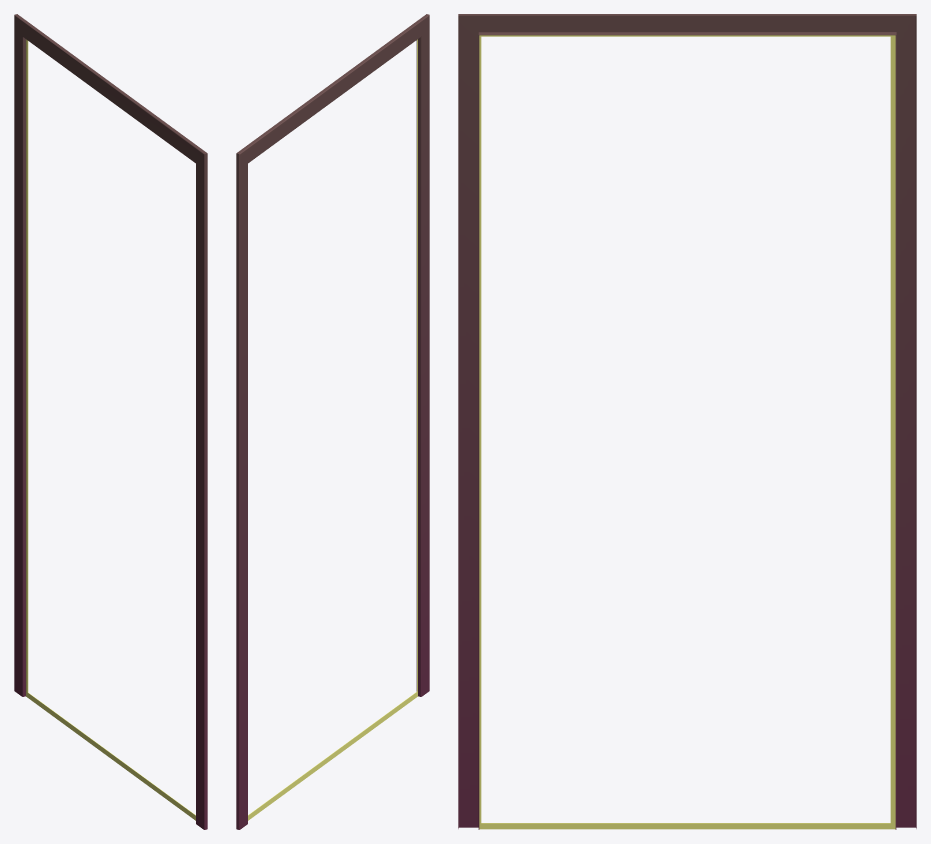
File: Kit_DoorFrame_Steel_DA_Wall.fbx
3 renders of one model, left to right at view 1: azimuth 30°, elevation 25°; view 2: azimuth 150°, elevation 25°; view 3: azimuth 270°, elevation 25°, orthographic. The views are drawn at different scales.
Visible parts, largest first — view 1: Kit_DoorFrame_Steel_DA_Wall_LOD0; view 2: Kit_DoorFrame_Steel_DA_Wall_LOD0; view 3: Kit_DoorFrame_Steel_DA_Wall_LOD0.
Part boxes in pixels (x1,y1,x2,y2): Kit_DoorFrame_Steel_DA_Wall_LOD0: (14,14,207,829); Kit_DoorFrame_Steel_DA_Wall_LOD0: (236,14,429,829); Kit_DoorFrame_Steel_DA_Wall_LOD0: (458,14,916,829).
Size of what is drawn, in the model's own units: 0.0151 by 2.15 by 1.1.
